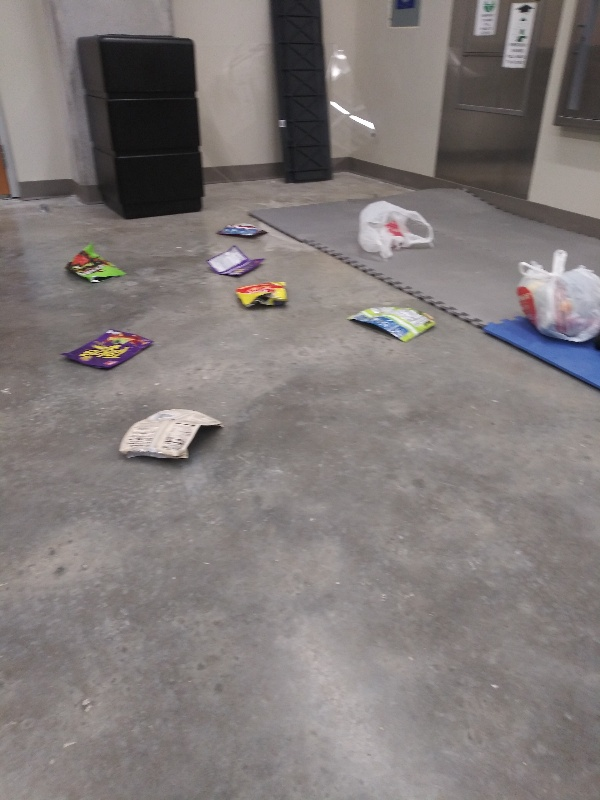bag: (112, 405, 229, 463), (57, 328, 158, 380), (343, 301, 441, 347), (62, 239, 131, 287), (201, 244, 268, 278), (233, 276, 290, 313), (212, 220, 271, 242)
